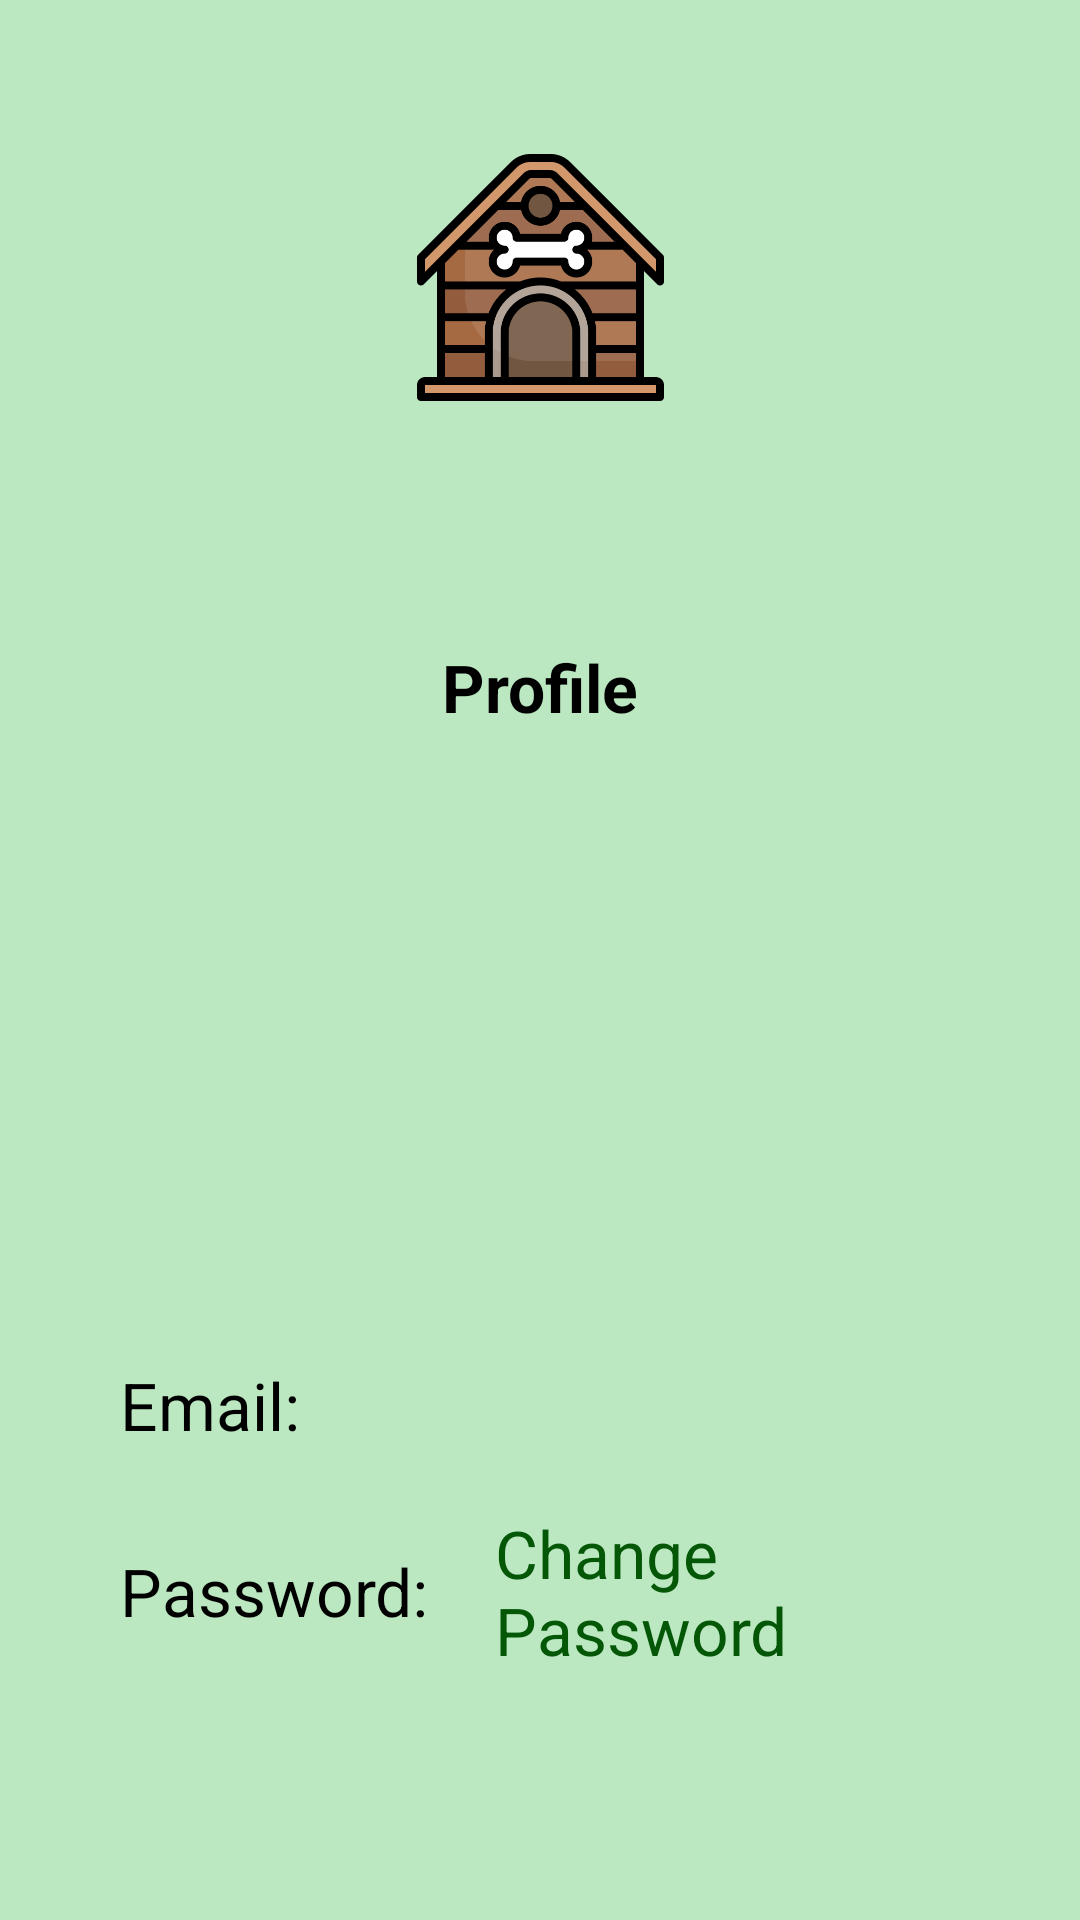

Where to tap for icons on this 1080px x 1920px app screen, as (x=x, y=y):
doghouse: (x=540, y=277)
